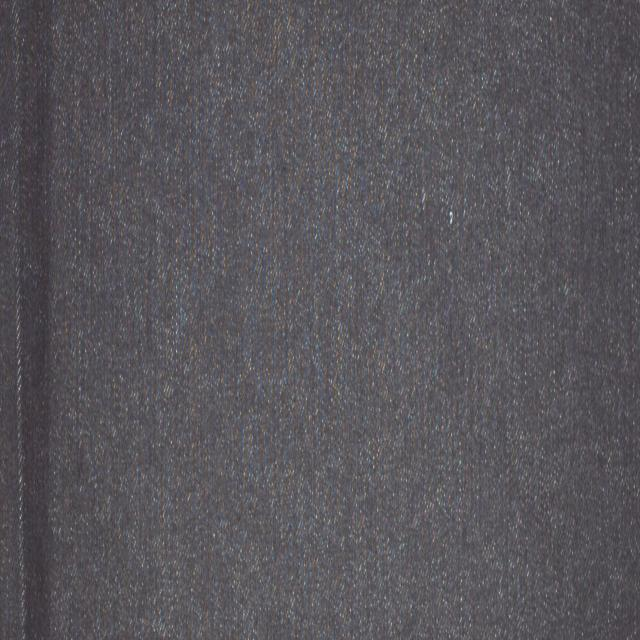Line: (11, 0, 29, 640)
